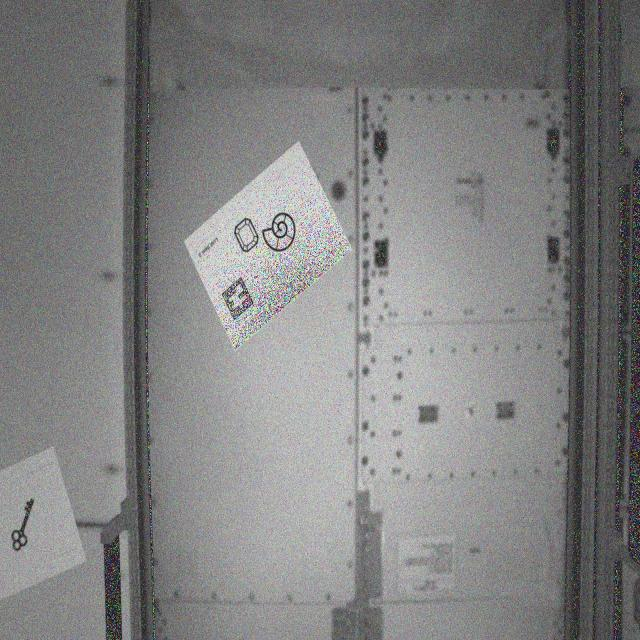emerald: (230, 213, 263, 260)
fossil: (263, 211, 302, 256)
